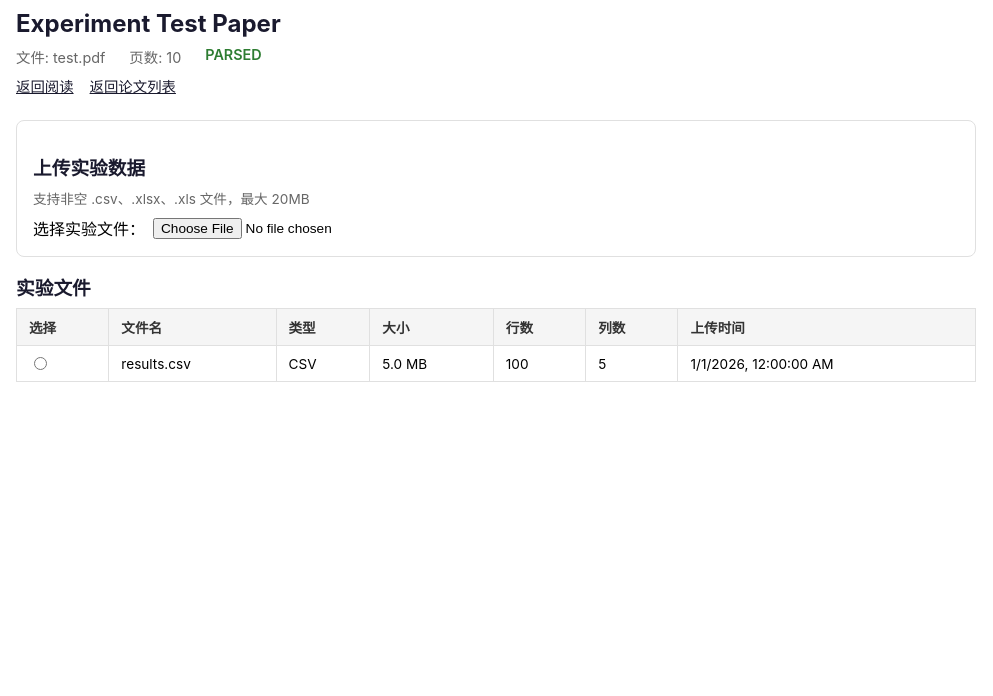
Test: ExperimentDataView › shows "not analyzed" when result is 404
Click the row with class "file-row".
click(496, 364)  # box x1=16 y1=346 x2=976 y2=382
(page scrolled)
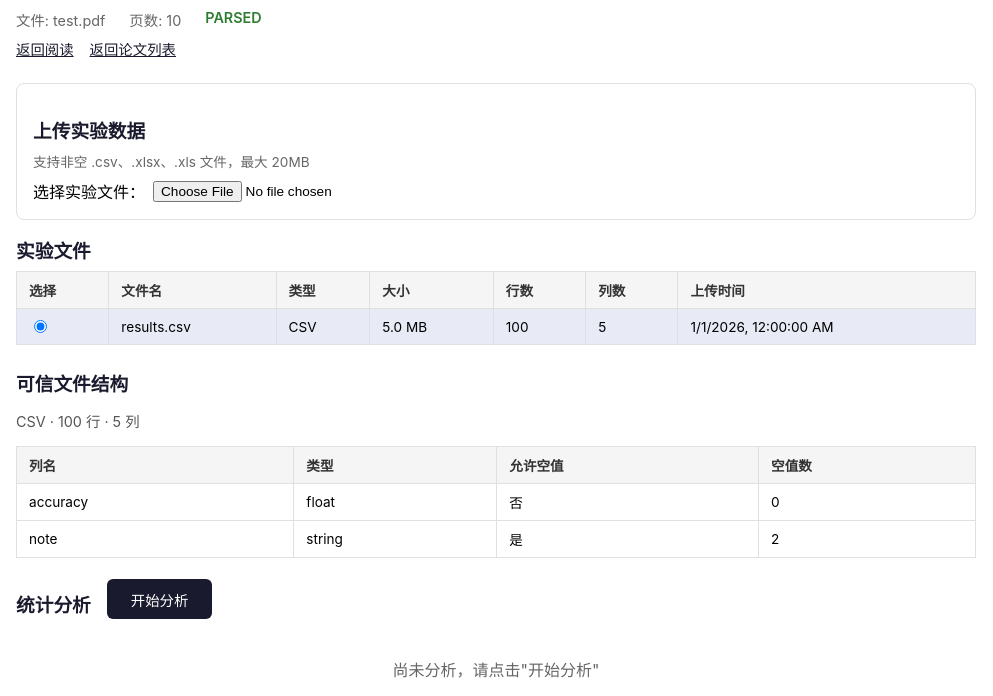
expect the text "尚未分析" is shown: met, box x1=392 y1=660 x2=599 y2=680
